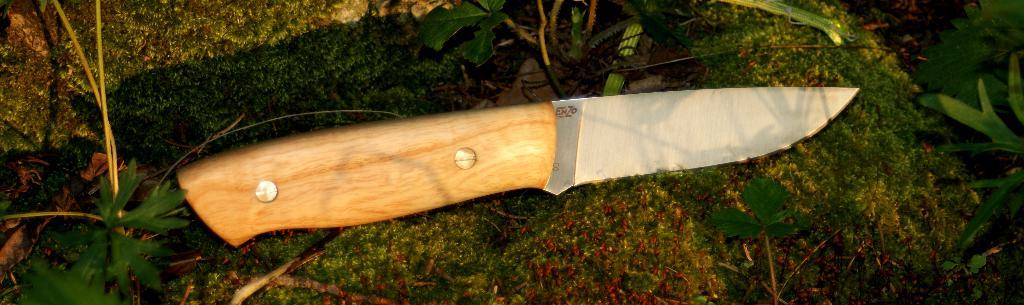Knife: (176, 86, 858, 249)
